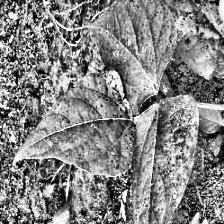Bean Rust: (18, 73, 132, 172), (92, 0, 174, 118), (135, 97, 200, 224), (169, 0, 224, 74)
